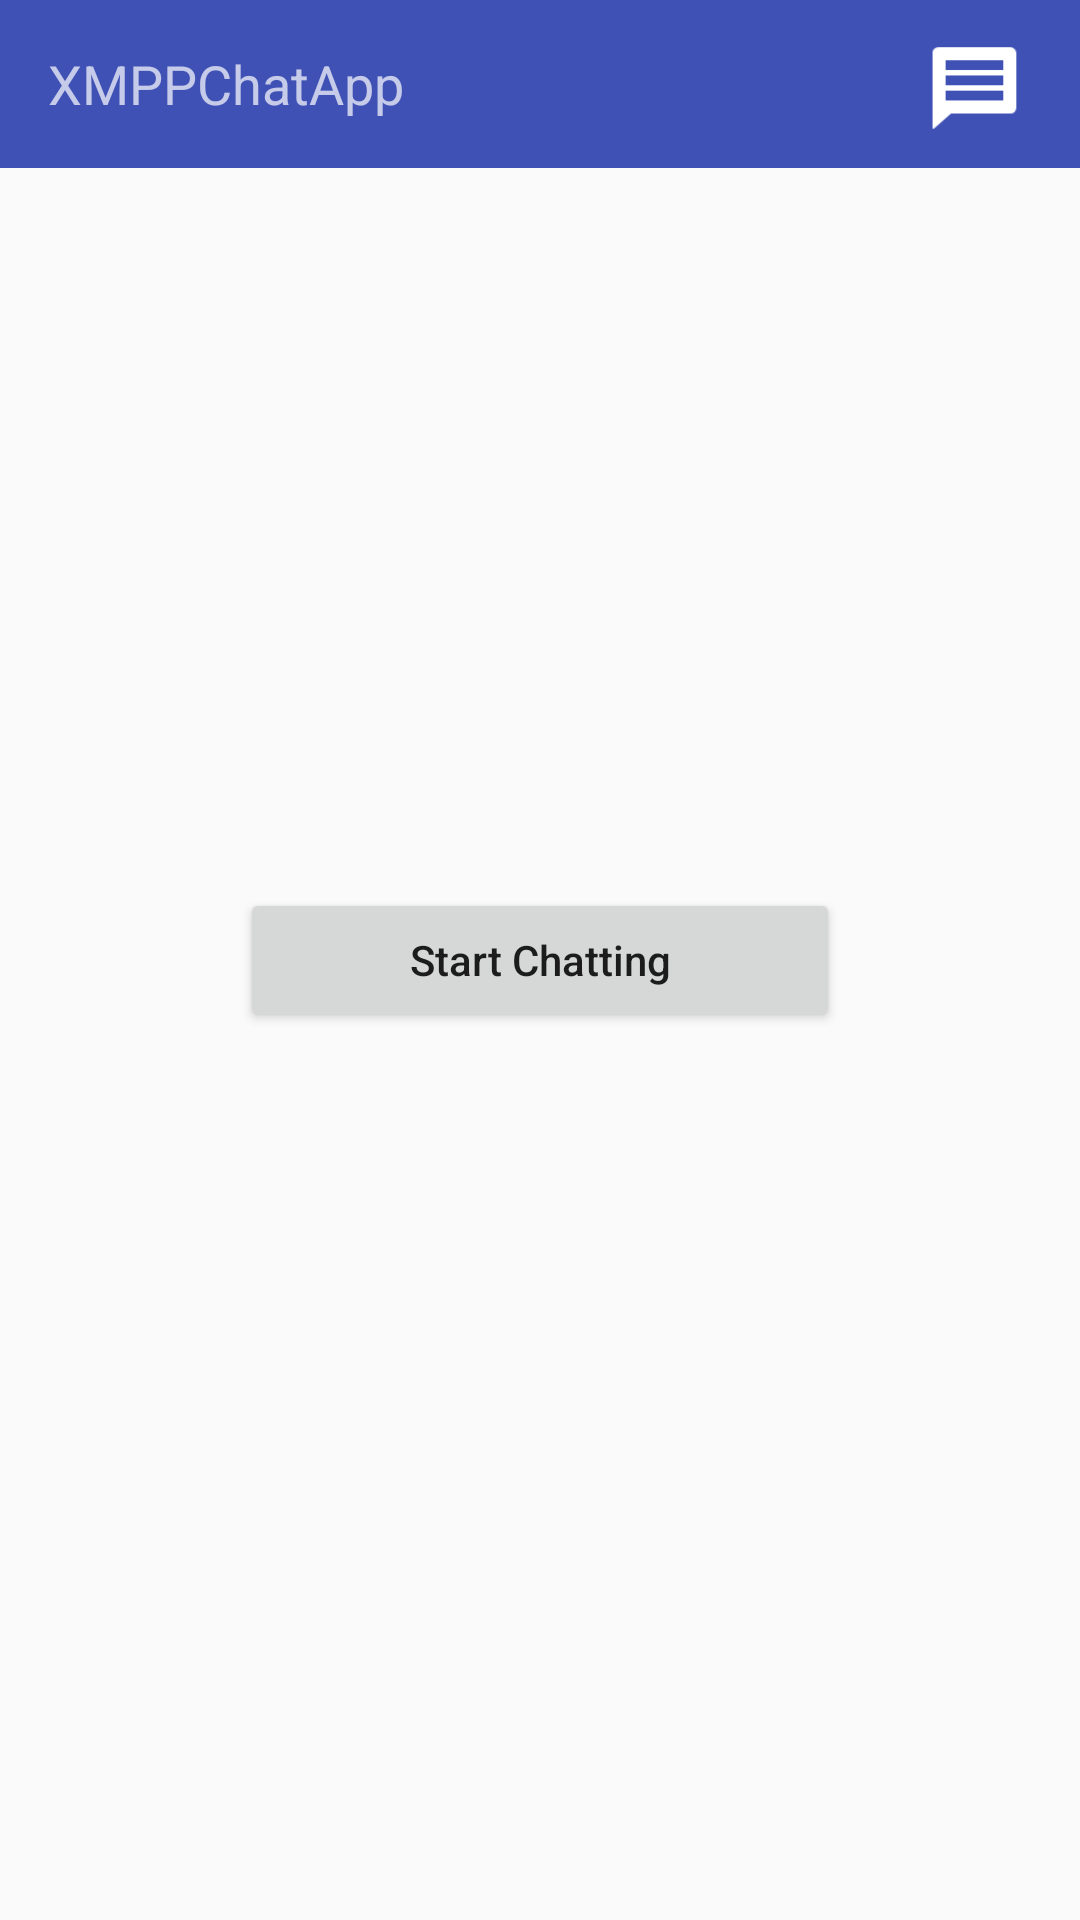

Where to tap for icons on this 1080w x 1920h app screen, as (x,y):
start chat: (974,88)
